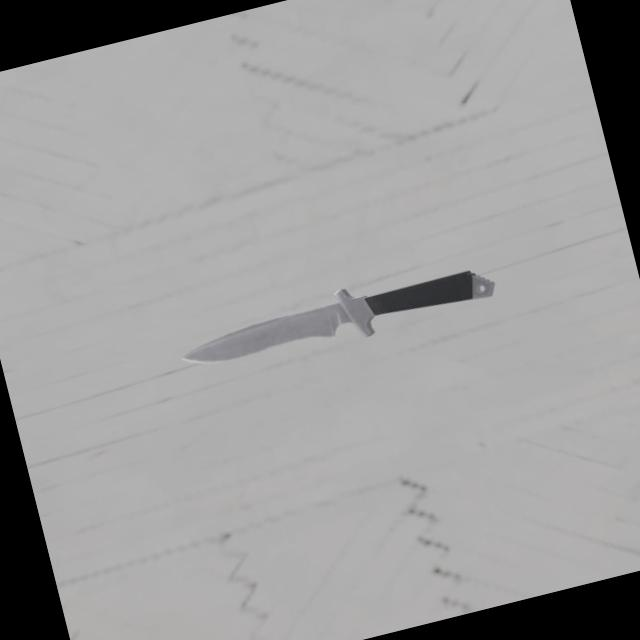knife: (362, 269, 480, 324)
